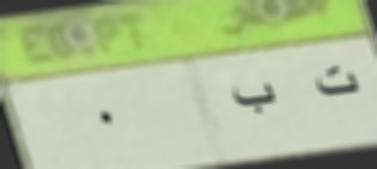0: (95, 102, 116, 136)
baa: (228, 78, 280, 118)
taa: (310, 58, 361, 102)
